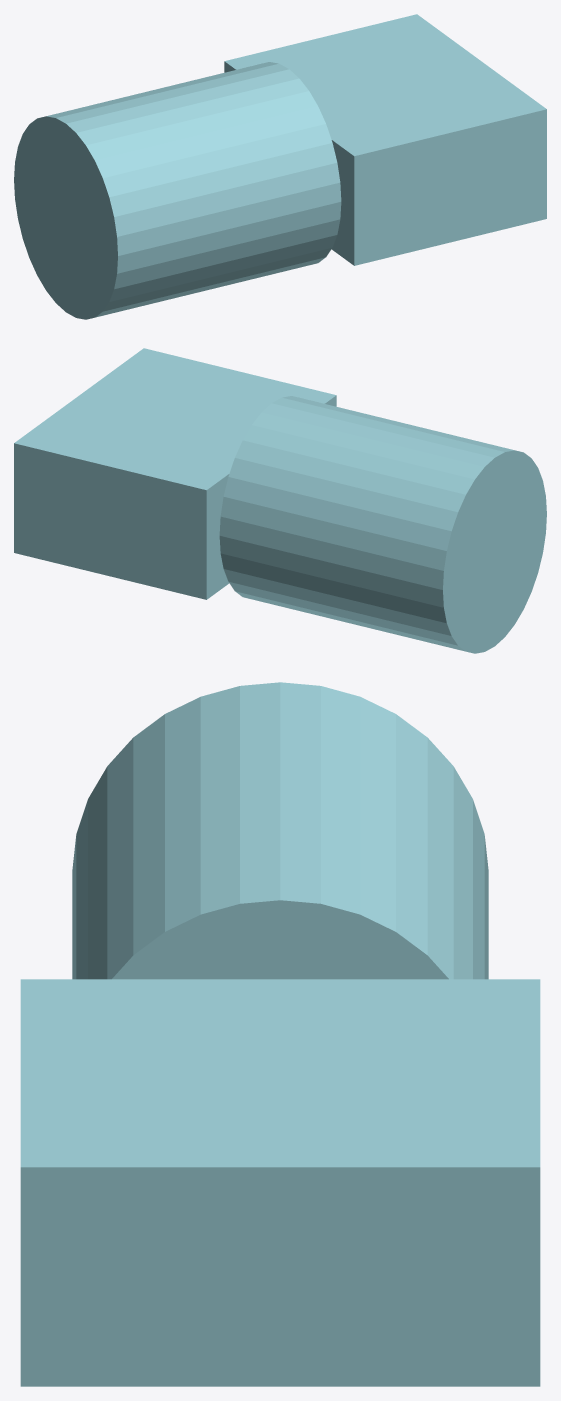
File: cylinder_brush_v9011.obj
3 renders of one model, top to bottom at view 1: azimuth 30°, elevation 25°; view 2: azimuth 150°, elevation 25°; view 3: azimuth 270°, elevation 25°, orthographic. The views are drawn at different scales.
Size of the model in its own units: 0.1349 by 0.0585 by 0.0729.
Materials: 1 (1 with a texture image).
